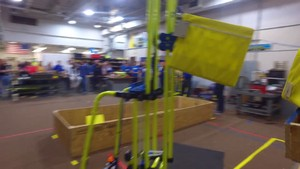cube: (169, 11, 255, 86)
